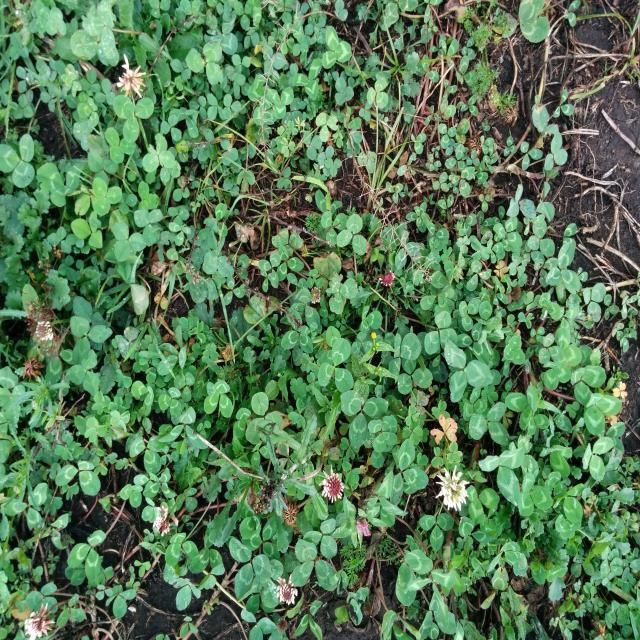Four Leaf Clover: (368, 414, 398, 452)
